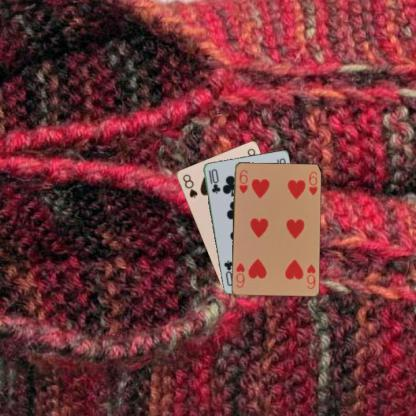10c: (206, 166, 222, 195)
6h: (234, 167, 249, 195), (304, 261, 317, 290)
8s: (180, 172, 198, 200)
